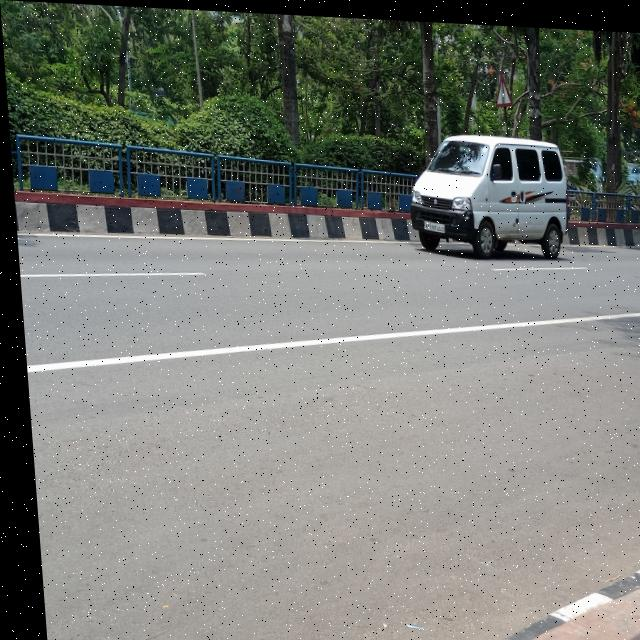car: (400, 119, 590, 271)
